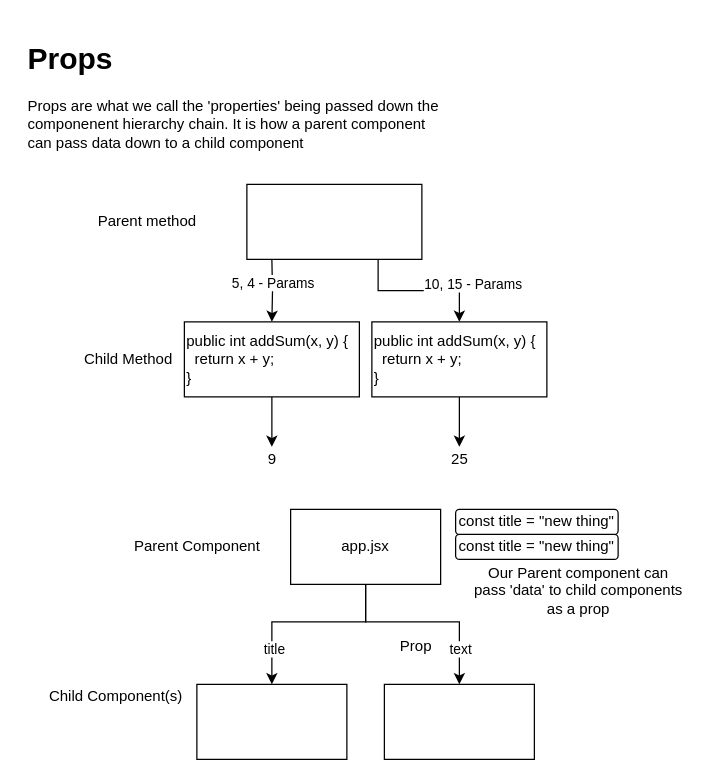
The diagram is 718 pixels wide and 781 high, and some of its shapes have lost their labels. Each missing label, with the centre of its shape:
"main method() { addSum(5,4); addSum(10,15) }" belongs at point (334, 221).
"Text.jsx the text is: {text}" belongs at point (458, 721).
"Title.jsx title: {title}" belongs at point (271, 721).
